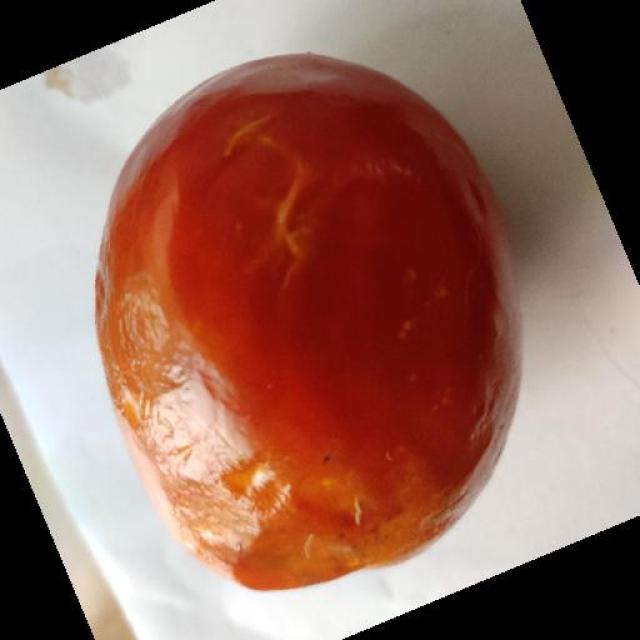Stale_tomato: (60, 64, 573, 570)
